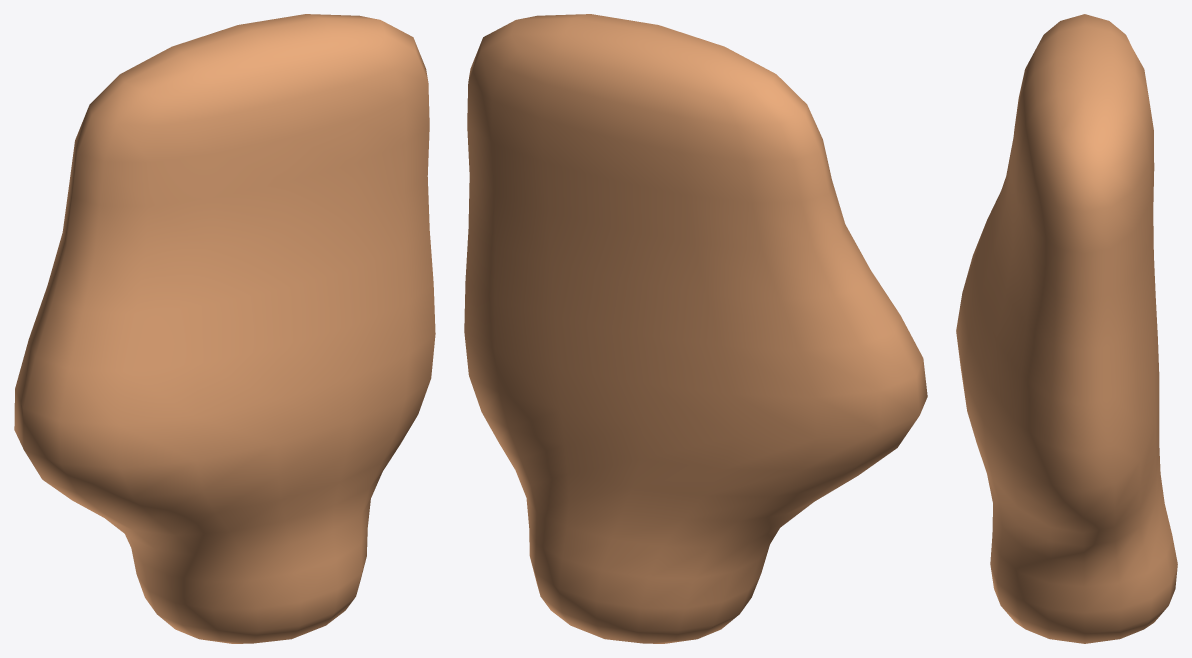
Rendered from palm.fbx.
3 renders of one model, left to right at view 1: azimuth 30°, elevation 25°; view 2: azimuth 150°, elevation 25°; view 3: azimuth 270°, elevation 25°, orthographic. The views are drawn at different scales.
Visible parts, largest first — view 1: palm; view 2: palm; view 3: palm.
Part boxes in pixels (<box>): palm: <box>14,14,435,643</box>; palm: <box>464,14,927,643</box>; palm: <box>956,14,1177,643</box>.
Bounding box in the file's own units: 191 × 253 × 89.33.
